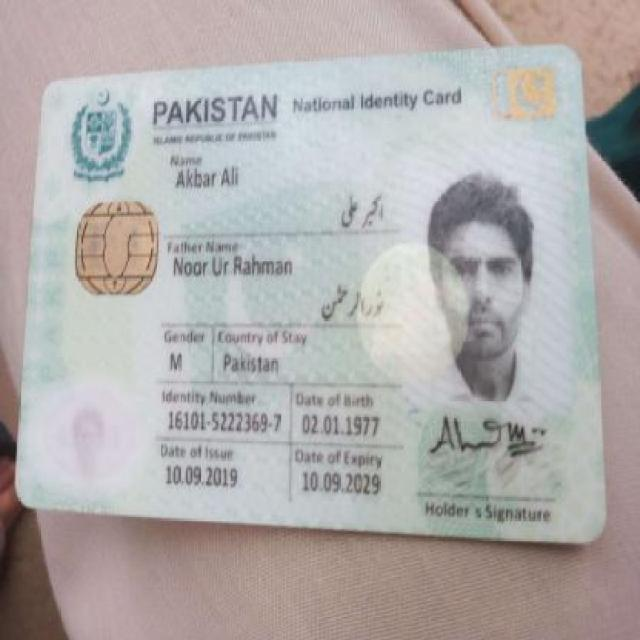Front: (15, 57, 614, 545)
